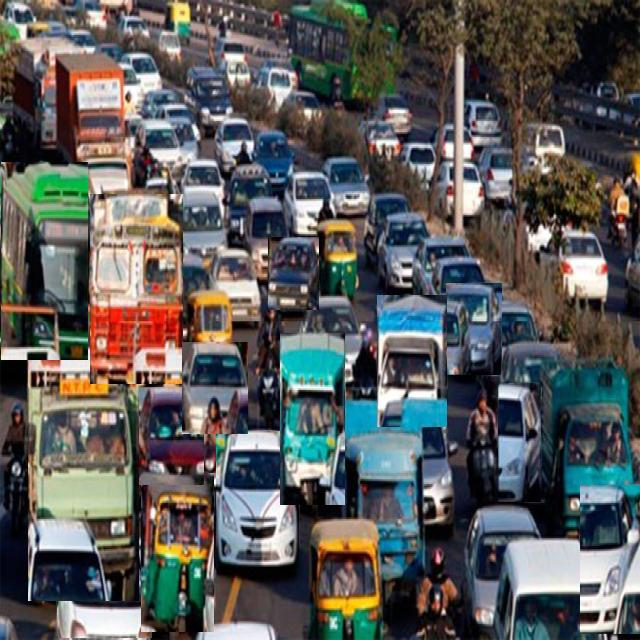autorickshaw: (141, 473, 214, 632), (309, 519, 381, 639)
bus: (0, 163, 88, 360)
car: (216, 431, 299, 569), (57, 518, 151, 638), (462, 504, 539, 636), (580, 486, 640, 634), (139, 387, 204, 485), (182, 342, 248, 434), (476, 300, 538, 394), (498, 384, 541, 502), (446, 284, 501, 375)
truck: (28, 306, 139, 601), (90, 194, 182, 384), (541, 360, 634, 532), (342, 400, 425, 592), (280, 334, 345, 505), (377, 296, 446, 427), (378, 212, 429, 289), (268, 237, 319, 310)
